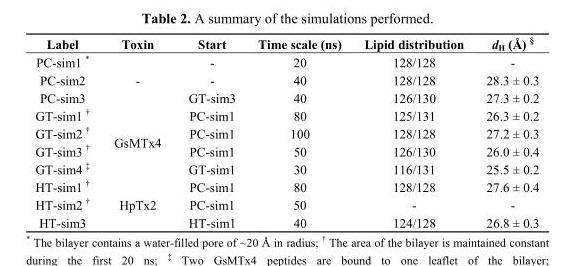table: (34, 34, 538, 229)
table column: (352, 34, 474, 229), (246, 34, 352, 229), (101, 34, 174, 229), (174, 34, 246, 229), (34, 34, 101, 229), (474, 34, 538, 229)
table column header: (34, 34, 538, 52)
table row: (34, 194, 538, 213), (34, 34, 538, 52), (34, 52, 538, 70), (34, 70, 538, 88), (34, 105, 538, 123), (34, 123, 538, 141), (34, 141, 538, 159), (34, 176, 538, 194), (34, 88, 538, 105), (34, 159, 538, 176), (34, 213, 538, 229)
table spanning cell: (101, 105, 174, 176), (101, 52, 174, 105), (101, 176, 174, 229)
